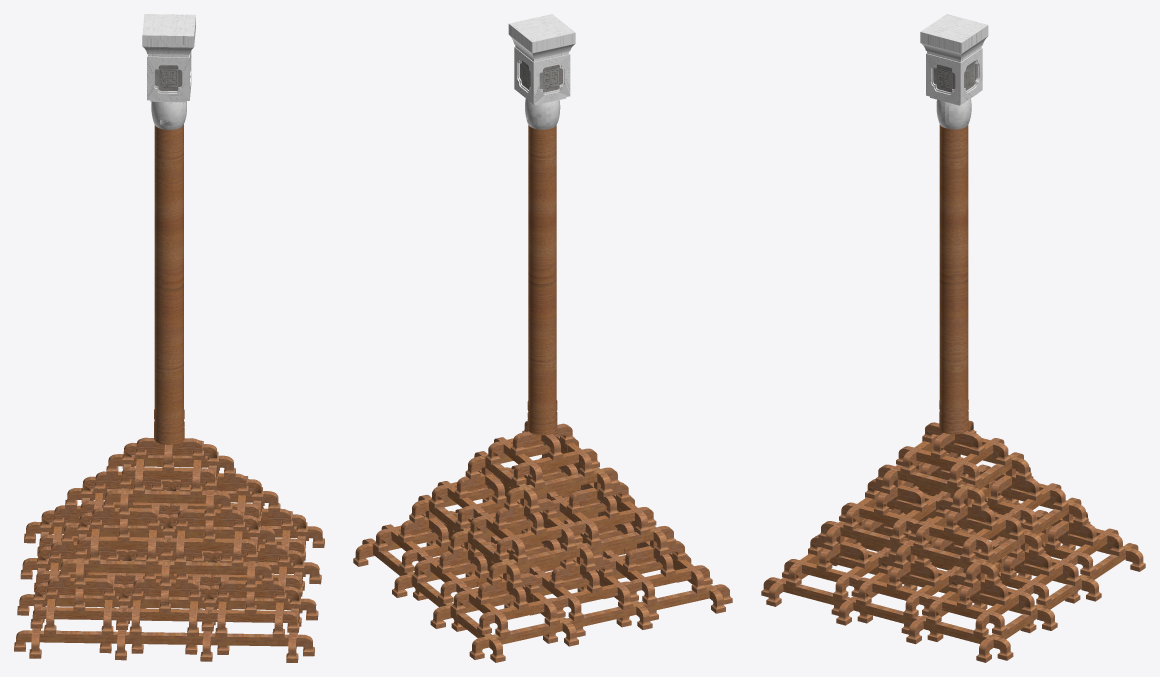
3 views of the same model, side by side, from view 1: azimuth 30°, elevation 25°; view 2: azimuth 150°, elevation 25°; view 3: azimuth 270°, elevation 25° (orthographic). The views are drawn at different scales.
Parts seen in each view (by area): view 1: R5L1; view 2: R5L1; view 3: R5L1.
Part boxes in pixels (x1,y1,x2,y2): R5L1: [14, 14, 324, 662]; R5L1: [353, 14, 732, 662]; R5L1: [761, 14, 1145, 662].
Bounding box in the file's own units: 46.97 × 74.56 × 46.94.
4 materials, 3 textured.
